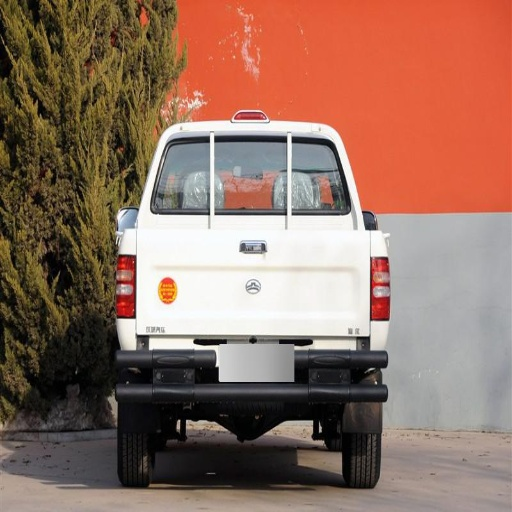back_bumper: (116, 344, 378, 402)
back_left_light: (113, 254, 136, 318)
trunk: (118, 215, 369, 365)
